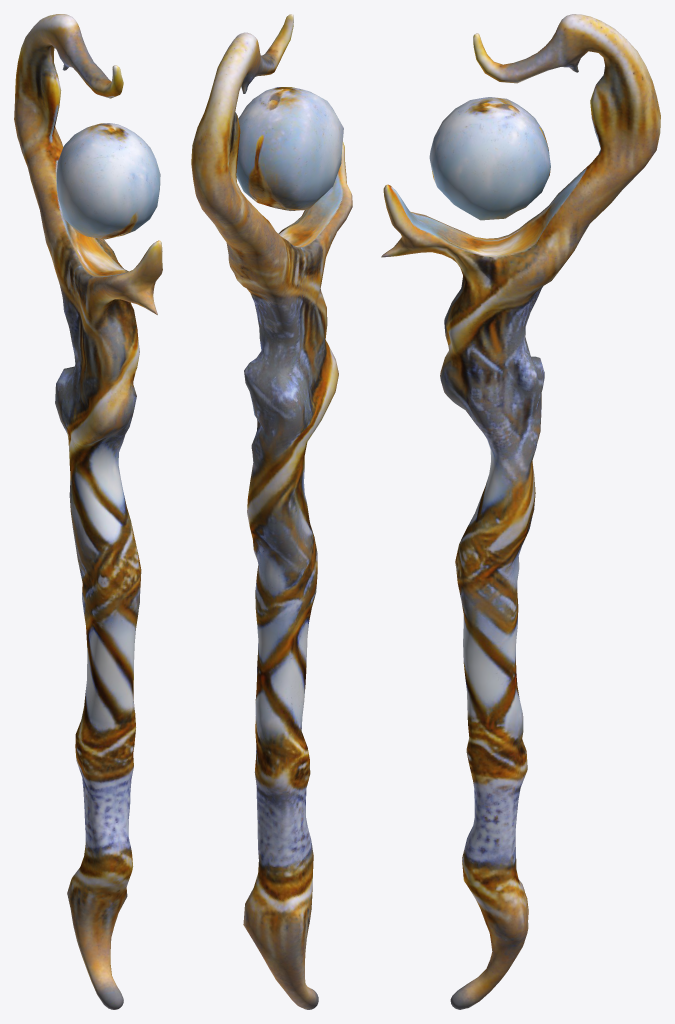
The model's file is 325a362a40a3_3d7dee211b5f_model.glb.
The picture shows the model from 3 angles, left to right: view 1: azimuth 30°, elevation 25°; view 2: azimuth 150°, elevation 25°; view 3: azimuth 270°, elevation 25°; orthographic projection. The views are drawn at different scales.
Visible parts, largest first — view 1: mesh; view 2: mesh; view 3: mesh.
Part boxes in pixels (x1,y1,x2,y2): mesh: (14,14,162,1009); mesh: (191,14,352,1009); mesh: (381,14,660,1009).
Bounding box in the file's own units: 0.0962 × 0.9997 × 0.2543.
1 material, 1 textured.
